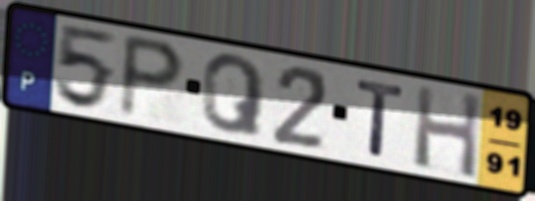2: (271, 63, 334, 154)
5: (54, 20, 121, 111)
H: (411, 83, 483, 183)
P: (115, 30, 189, 122)
Q: (199, 52, 269, 141)
T: (354, 77, 409, 161)
